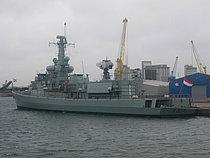MIL_Ship: (12, 33, 198, 119)
